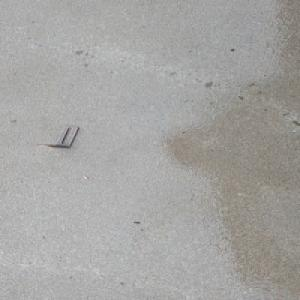MetalPart: (36, 124, 79, 148)
